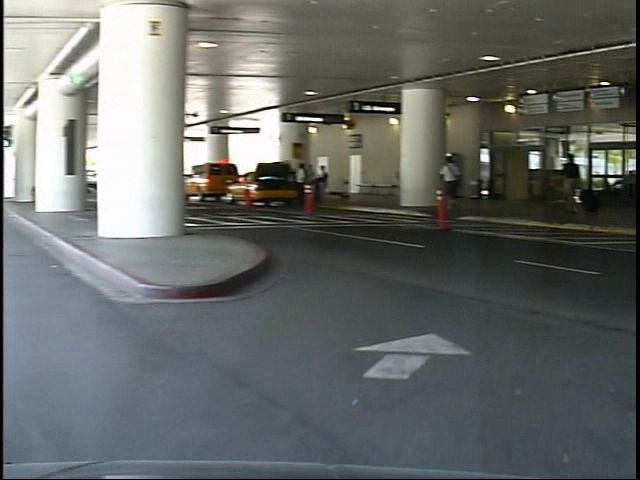person: (563, 145, 591, 221), (446, 150, 472, 215)
